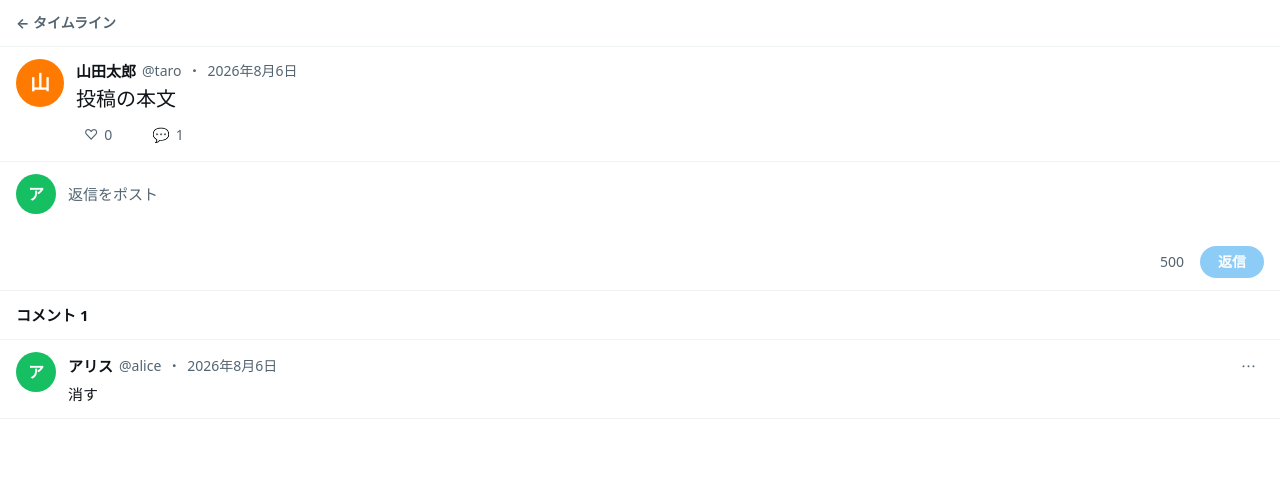
Test case: PostDetailPage › 状態遷移: 自分のコメントを削除するとコメント数が 1 減る
Expected: the text "消す" is shown, [68,384,98,404]
Click the button "⋯".
click(1248, 366)  # box [1233,352,1264,380]
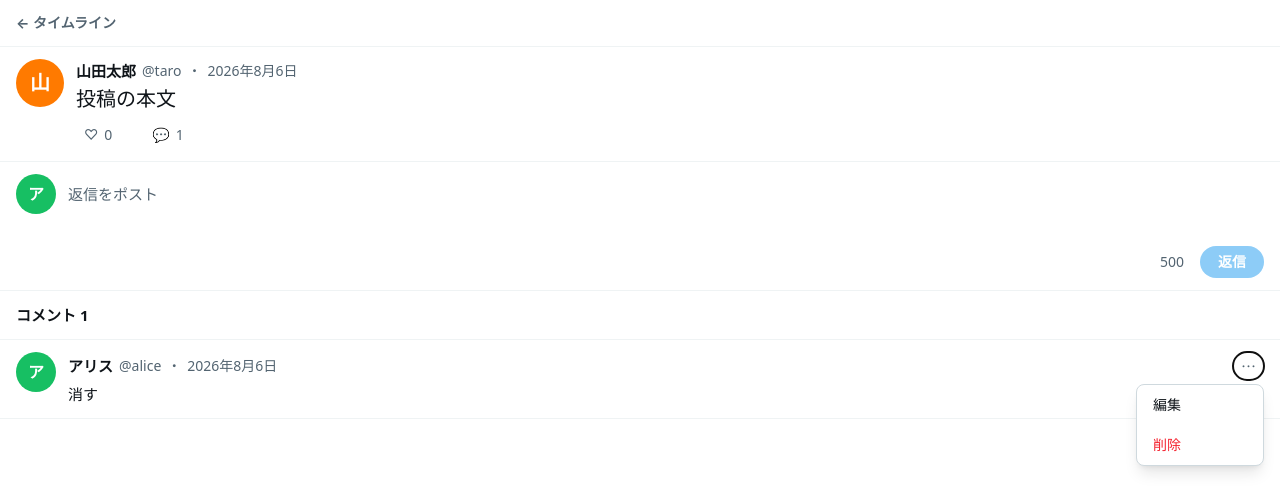
Click the button "削除".
click(1200, 445)  # box [1137,425,1263,465]
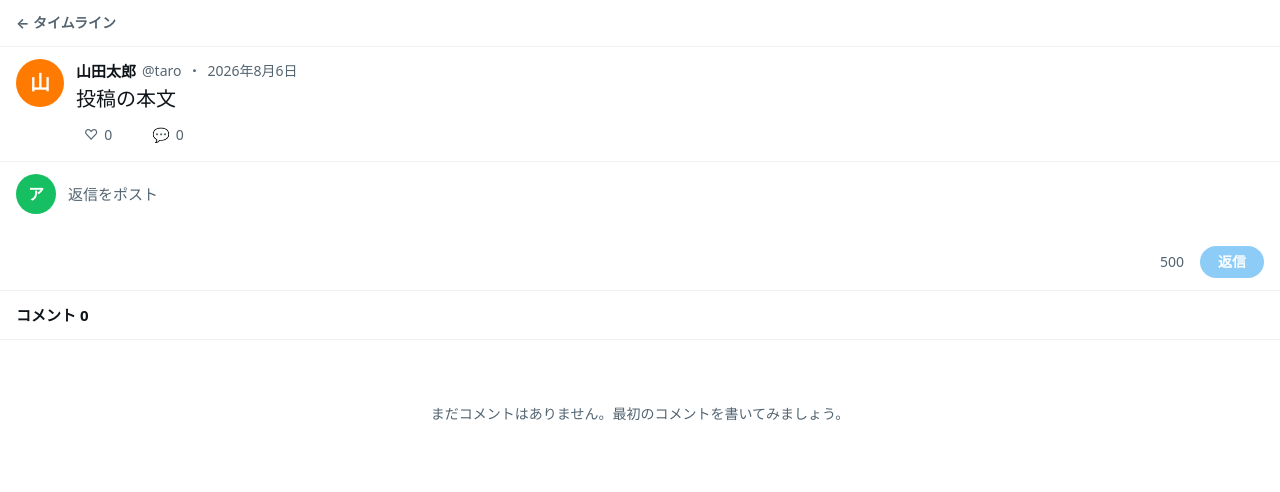
Now the text "消す" is gone
Now the heading "コメント 0" is shown, box [0,291,1279,340]
